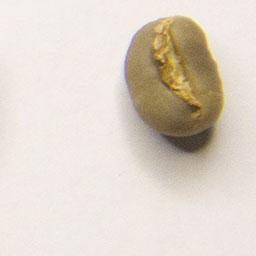peaberry: (120, 12, 228, 142)
